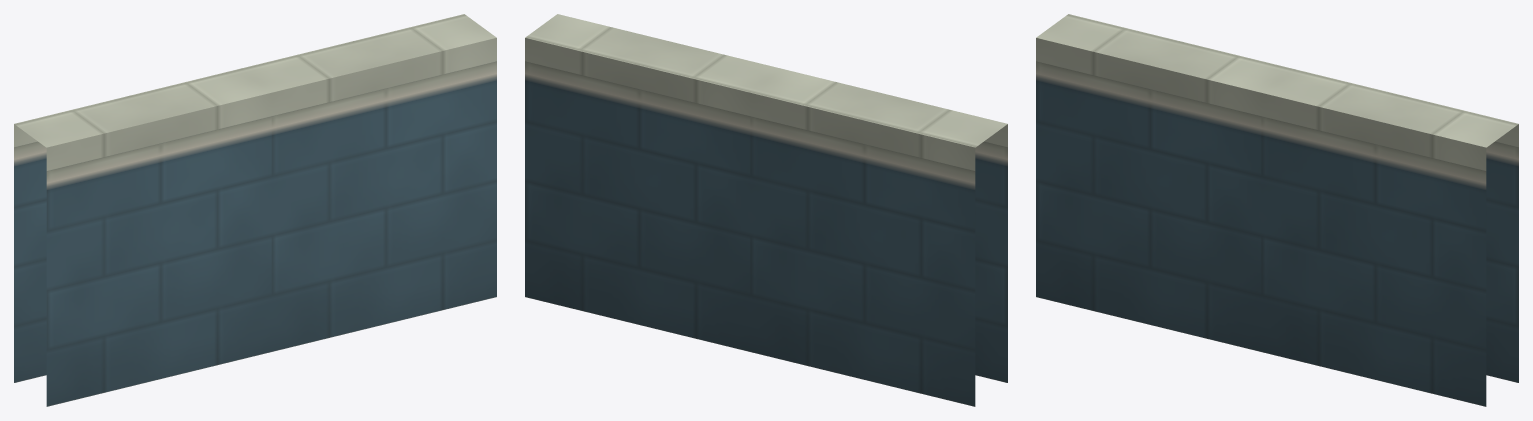
File: wall_prison_low.fbx
3 views of the same model, side by side, from view 1: azimuth 30°, elevation 25°; view 2: azimuth 150°, elevation 25°; view 3: azimuth 330°, elevation 25° (orthographic).
Parts seen in each view (by area): view 1: wall_prison_low; view 2: wall_prison_low; view 3: wall_prison_low.
Part boxes in pixels (left/top/right/bottom): wall_prison_low: left=14, top=14, right=496, bottom=406; wall_prison_low: left=525, top=14, right=1007, bottom=406; wall_prison_low: left=1036, top=14, right=1518, bottom=406.
Size of the model in its own units: 2 by 1.1 by 0.25.
1 material, 1 textured.
